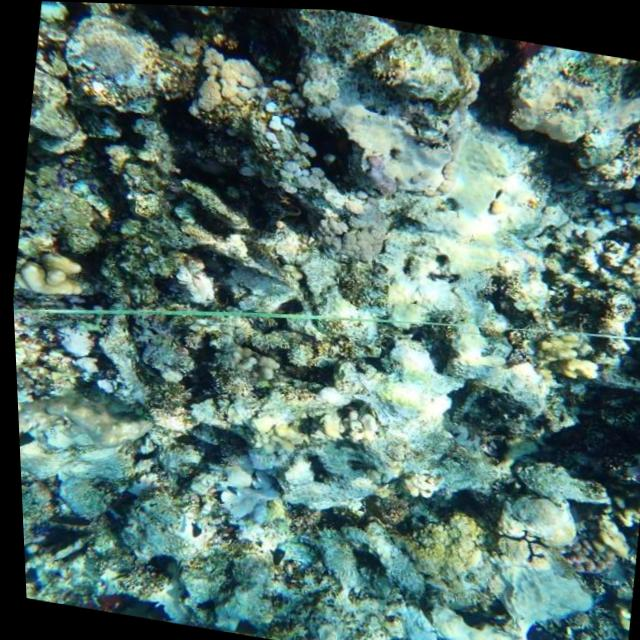Bleached Coral: (332, 82, 569, 337), (304, 313, 487, 465), (224, 55, 356, 249), (34, 286, 147, 445), (185, 432, 306, 553)
